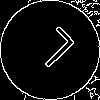L: (25, 25, 77, 77)
